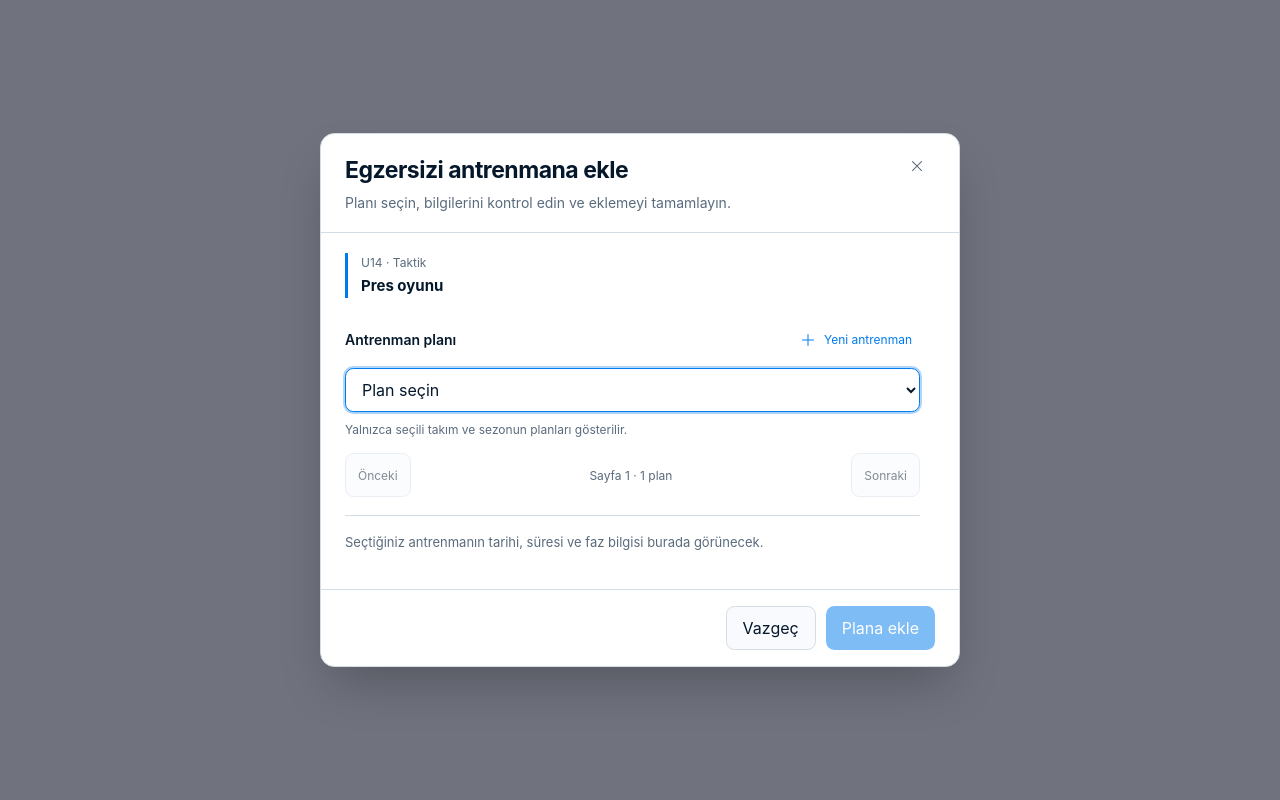
it: ready exercise planning › passes the expected version and waits for explicit add confirmation
The width and height of the screenshot is (1280, 800).
Select "Salı antrenmanı" in the dropdown labelled "Antrenman planı": (632, 390) x1=345 y1=368 x2=920 y2=412
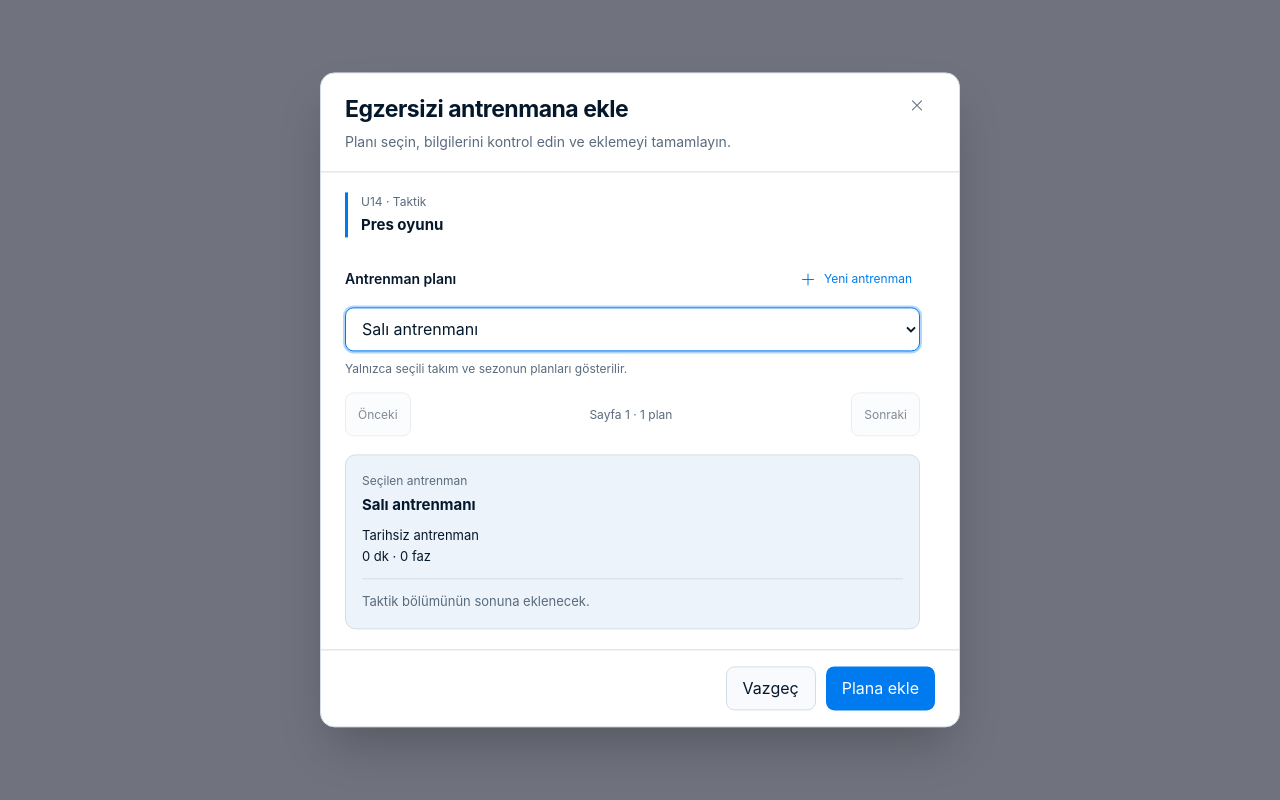
expect the button "Plana ekle" is enabled: met
Click the button "Plana ekle": (880, 689) x1=826 y1=667 x2=935 y2=711
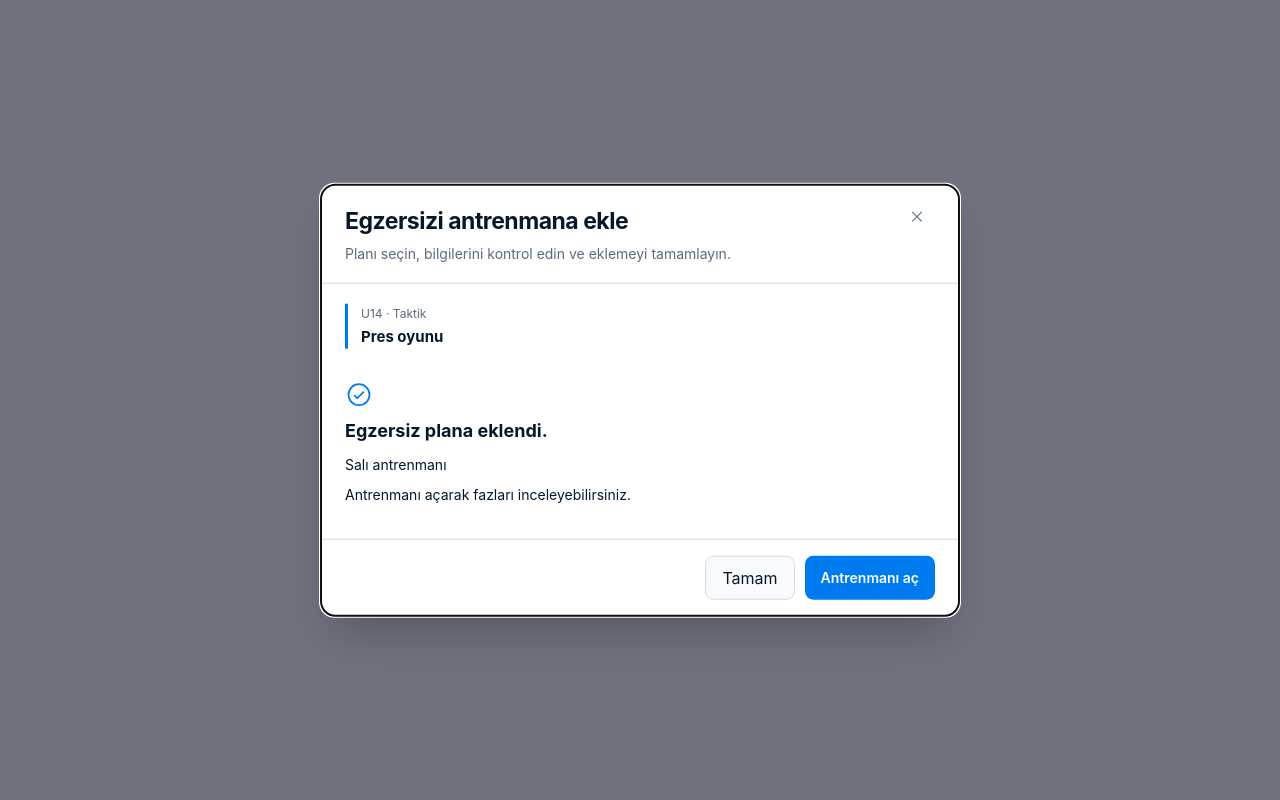
expect the heading "Egzersiz plana eklendi." is shown: met, box x1=345 y1=417 x2=548 y2=446
